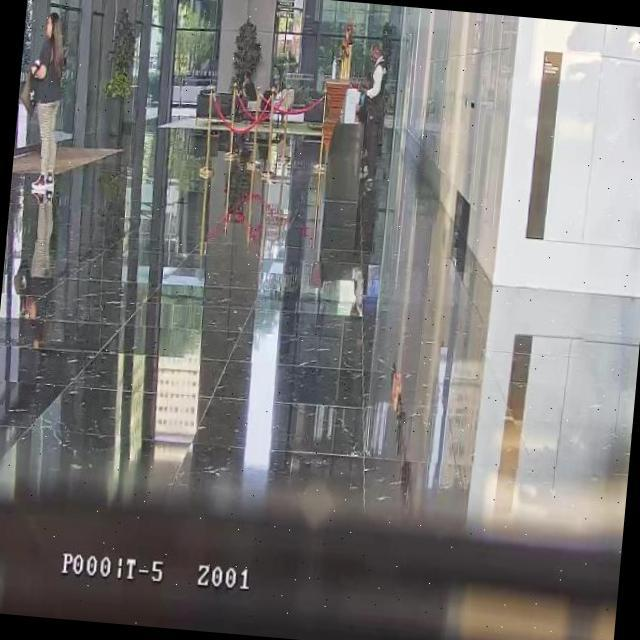person: (18, 9, 70, 204), (352, 40, 391, 180), (232, 70, 258, 123)
